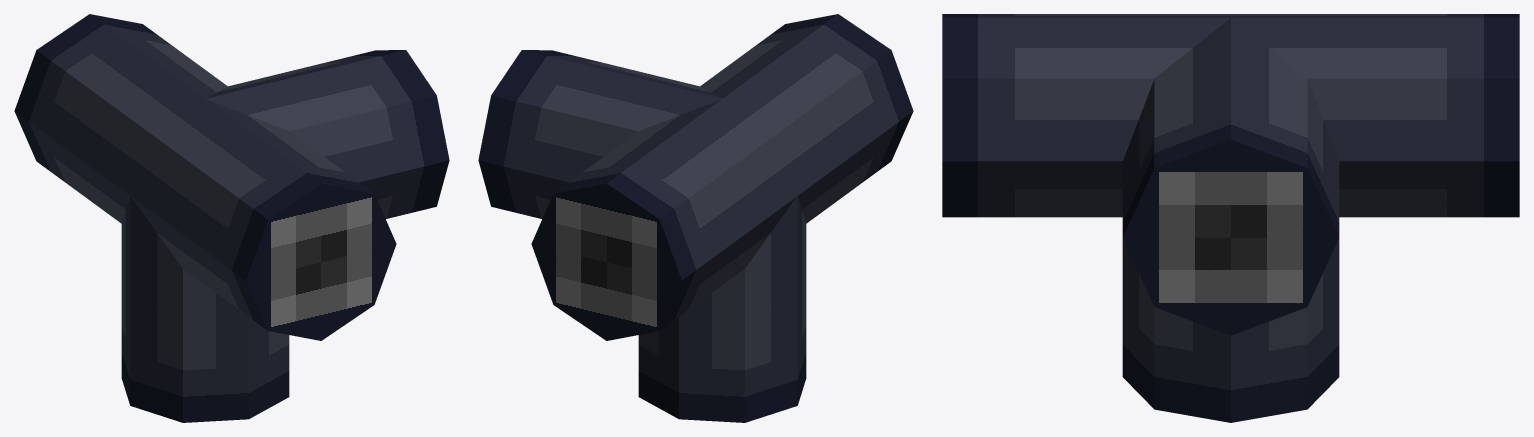
Rendered from pipe_water_39.obj.
The picture shows the model from 3 angles, left to right: view 1: azimuth 30°, elevation 25°; view 2: azimuth 150°, elevation 25°; view 3: azimuth 270°, elevation 25°; orthographic projection. The views are drawn at different scales.
Bounding box in the file's own units: 0.6875 × 0.6875 × 1.
